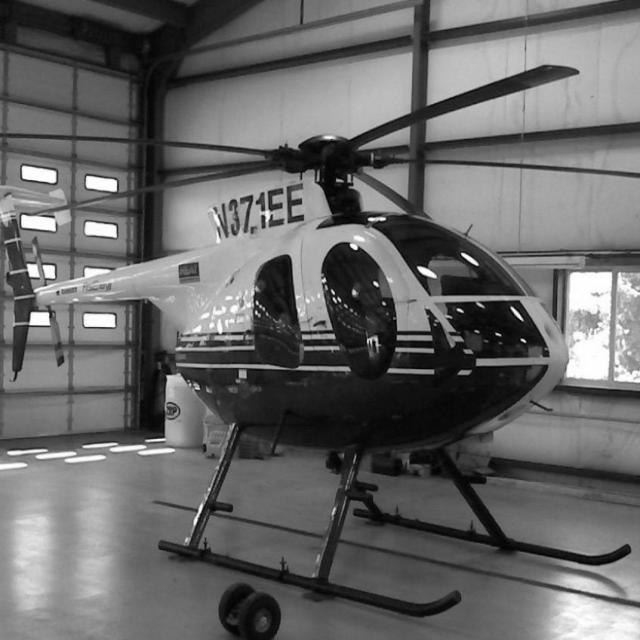helicopter: (1, 132, 640, 627)
